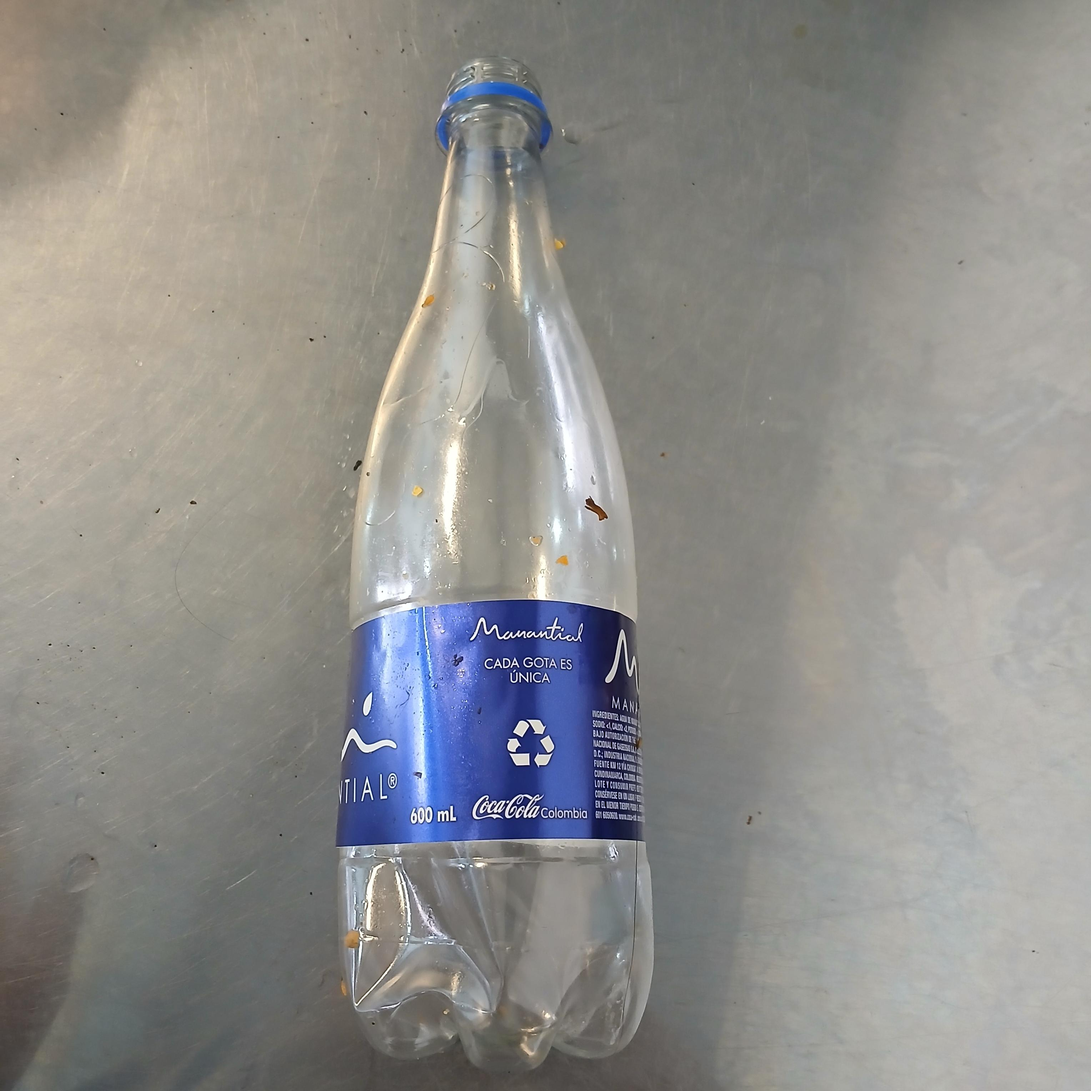Plastico: (335, 55, 653, 1065)
